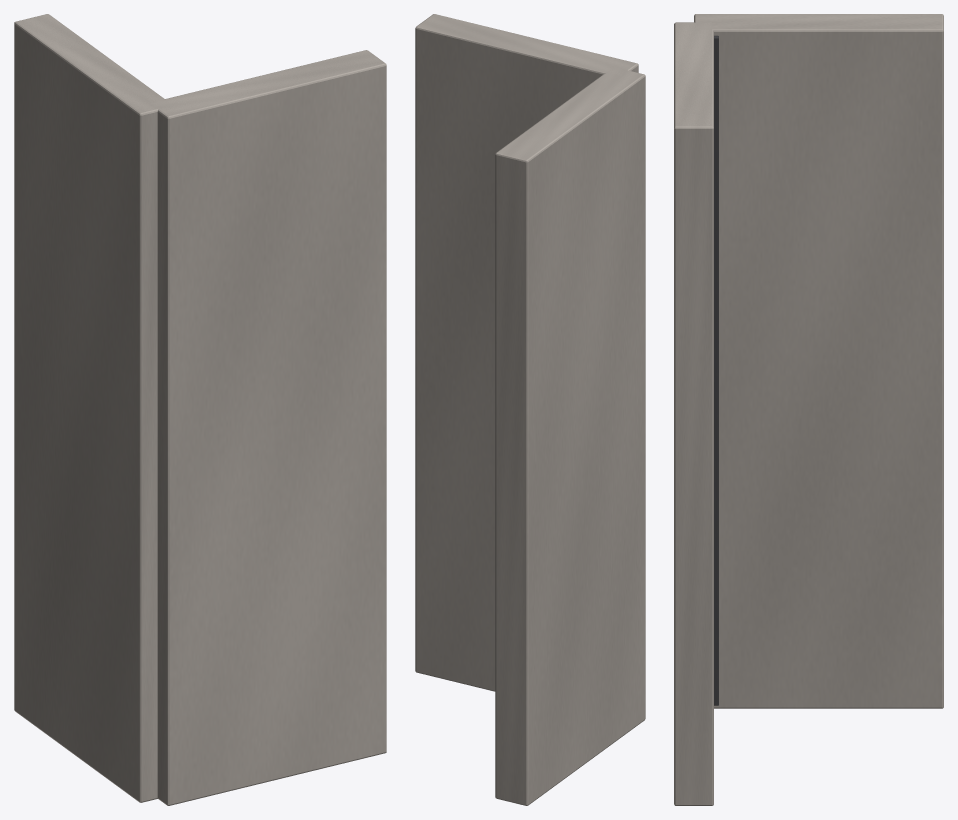
Rendered from wall_corner.glb.
3 renders of one model, left to right at view 1: azimuth 30°, elevation 25°; view 2: azimuth 150°, elevation 25°; view 3: azimuth 270°, elevation 25°, orthographic. The views are drawn at different scales.
Parts seen in each view (by area): view 1: wall_x, wall_y; view 2: wall_y, wall_x; view 3: wall_y, wall_x, corner_guard.
Part boxes in pixels (left/top/right/bottom): wall_x: left=151, top=50, right=386, bottom=805; wall_y: left=14, top=14, right=170, bottom=802; wall_y: left=495, top=67, right=645, bottom=805; wall_x: left=415, top=14, right=638, bottom=691; wall_y: left=694, top=14, right=943, bottom=708; wall_x: left=674, top=22, right=713, bottom=805; corner_guard: left=714, top=35, right=718, bottom=705.
Size of the model in its own units: 1.08 by 3 by 1.08.
2 materials, 2 textured.
